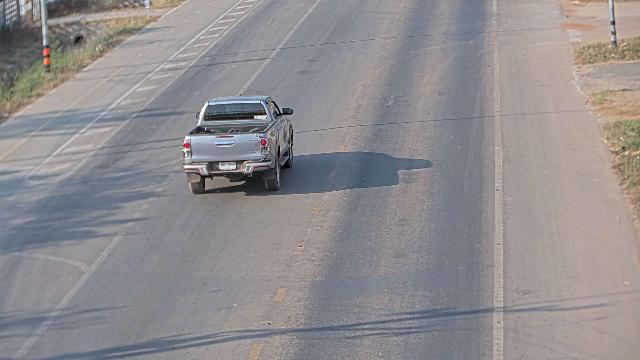pickup-truck: (181, 94, 295, 194)
